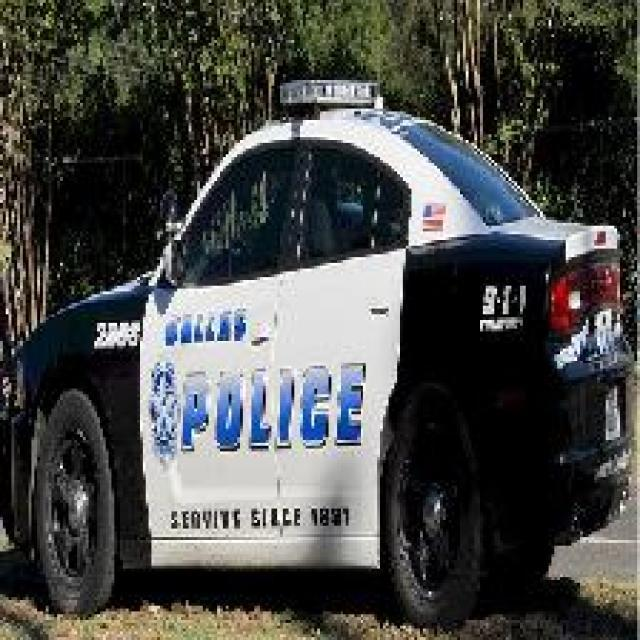emergency: (0, 70, 636, 625)
